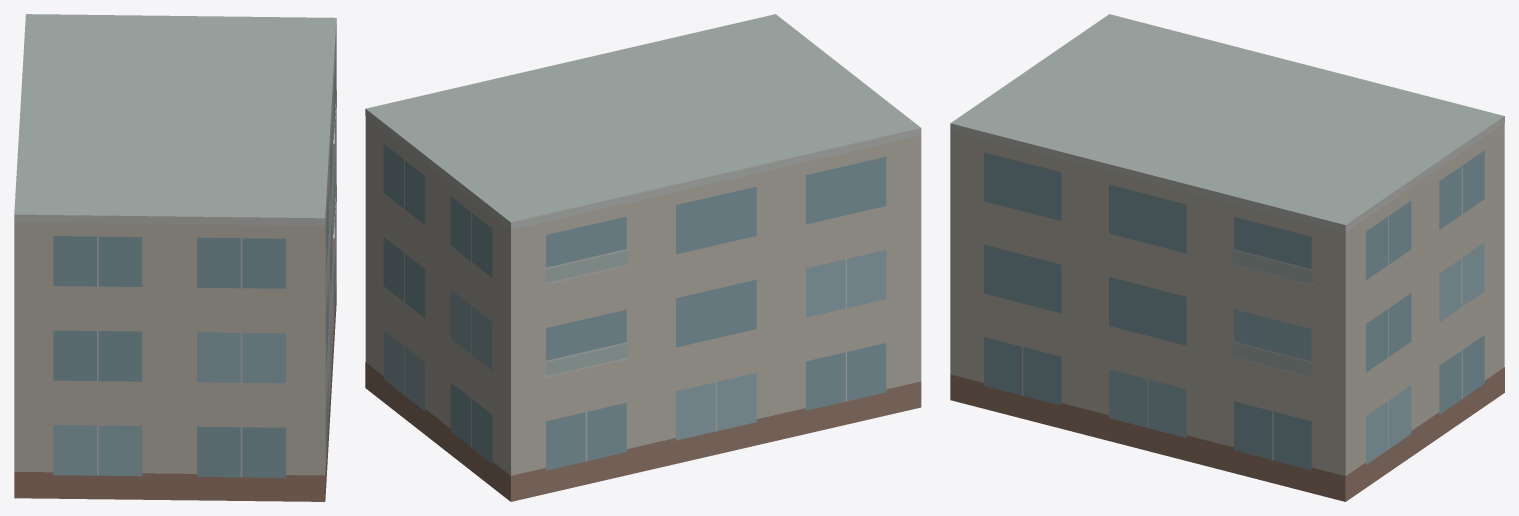
Rendered from survey-upis-32995964.glb.
The picture shows the model from 3 angles, left to right: view 1: azimuth 30°, elevation 25°; view 2: azimuth 150°, elevation 25°; view 3: azimuth 270°, elevation 25°; orthographic projection. The views are drawn at different scales.
Visible parts, largest first — view 1: survey-upis-32995964.tmp; view 2: survey-upis-32995964.tmp; view 3: survey-upis-32995964.tmp.
Part boxes in pixels (x1,y1,x2,y2): survey-upis-32995964.tmp: (14, 14, 336, 501); survey-upis-32995964.tmp: (365, 14, 921, 501); survey-upis-32995964.tmp: (950, 14, 1504, 501).
Bounding box in the file's own units: 14.98 × 9.15 × 16.62.
